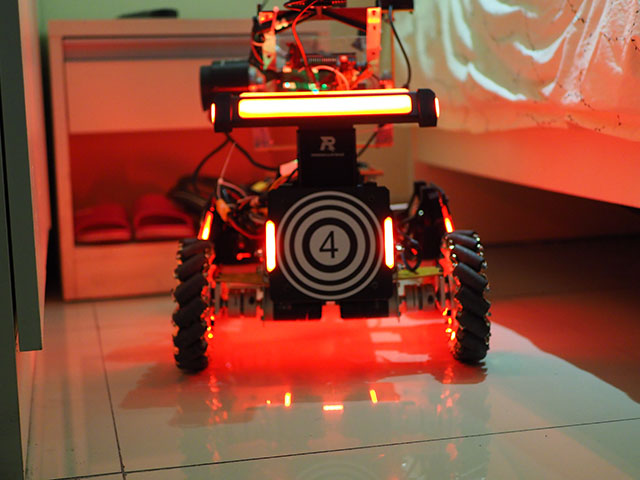lamp: (265, 219, 276, 273), (384, 217, 395, 270)
pair: (265, 219, 395, 271)
